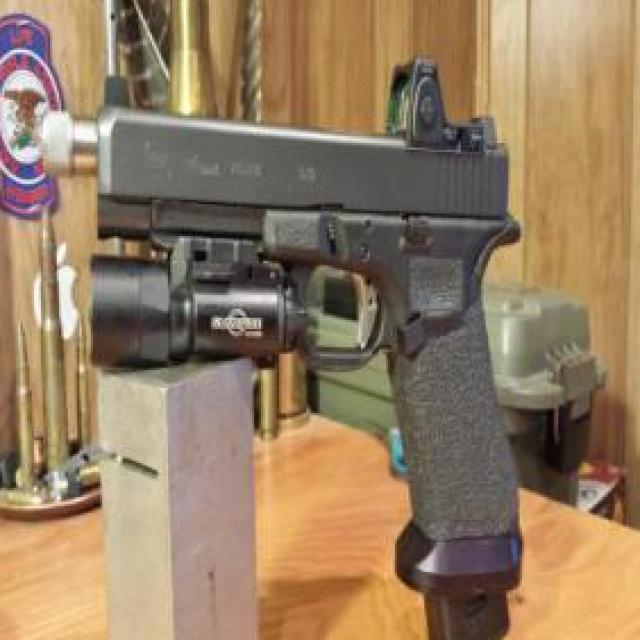pistol: (93, 43, 522, 640)
